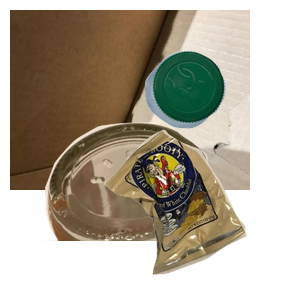cardboard: (10, 10, 250, 190)
glass: (22, 120, 233, 300)
plastic: (142, 48, 300, 169)
trash: (101, 127, 300, 300)
